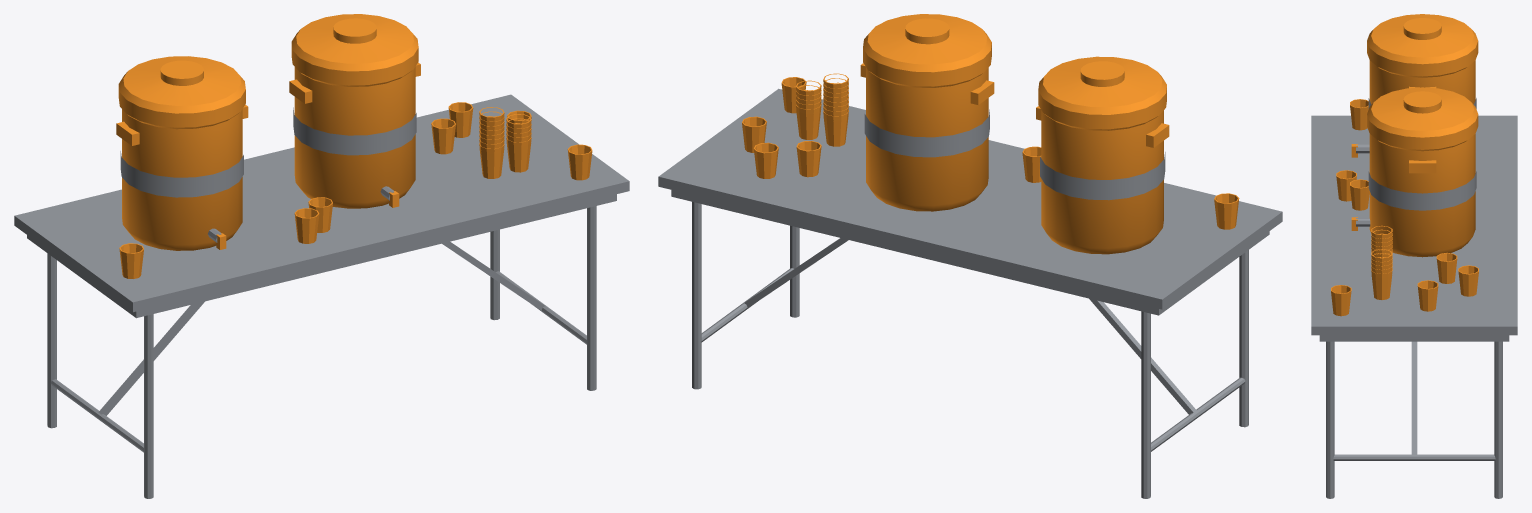
Rendered from cooler.glb.
3 renders of one model, left to right at view 1: azimuth 30°, elevation 25°; view 2: azimuth 150°, elevation 25°; view 3: azimuth 270°, elevation 25°, orthographic. The views are drawn at different scales.
Visible parts, largest first — view 1: cooler; view 2: cooler; view 3: cooler.
Part boxes in pixels (x1,y1,x2,y2): cooler: (14, 14, 629, 498); cooler: (658, 14, 1282, 498); cooler: (1311, 14, 1517, 498).
Bounding box in the file's own units: 1.84 × 1.3 × 0.76.
